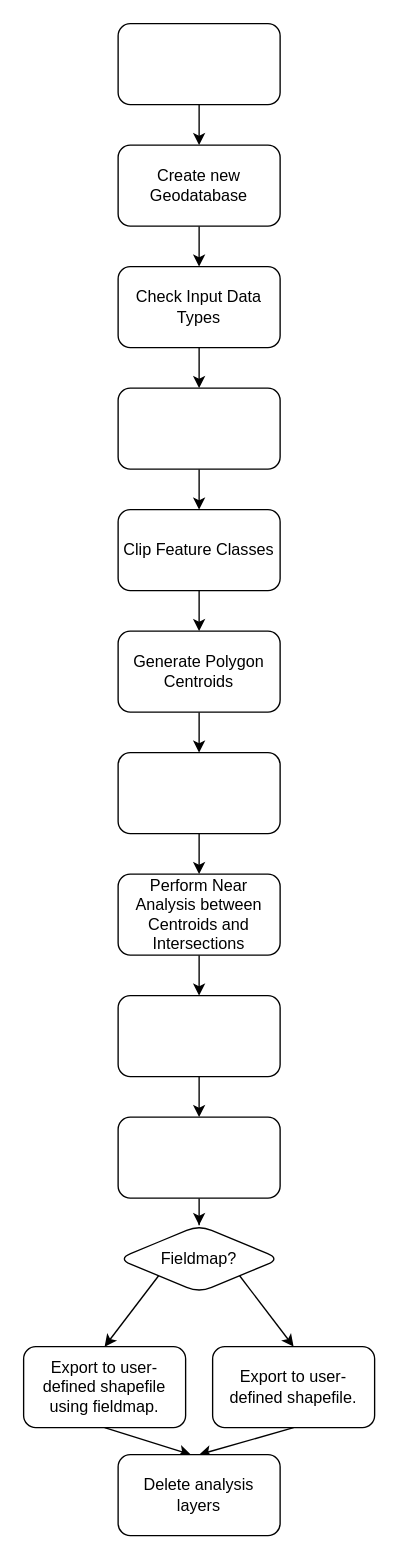
Image size: 398x1559. Some labels were removed from this diagram. The shapes that lost their labels are listed below. From the top down, each one's box as (x1, y1, x2, y2) in pixels, then its label:
(117, 22, 280, 105): Take Inputs
(117, 387, 280, 469): Reproject Necessary Feature Classes
(117, 751, 280, 834): Calculate Intersections as Evac Route Access Points
(117, 994, 280, 1077): Compute User-Defined Summary Statistics
(117, 1116, 280, 1198): Join summary statistics feature class with near analysis feature class
